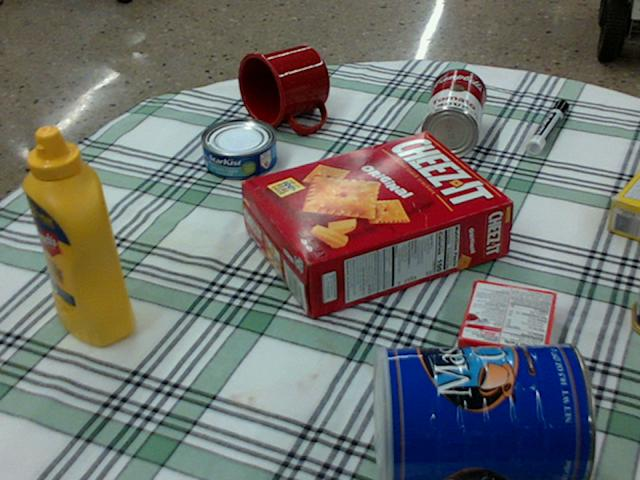cracker_box: (242, 133, 511, 319)
gelatin_box: (458, 279, 555, 372)
large_marker: (525, 100, 568, 152)
master_chef_can: (371, 341, 598, 479)
mug: (236, 46, 329, 131)
mustard_bottle: (22, 126, 134, 346)
potted_meat_can: (630, 279, 639, 333)
sugar_box: (609, 173, 639, 241)
tomato_soup_can: (420, 68, 486, 157)
tuna_fish_can: (199, 118, 275, 178)
